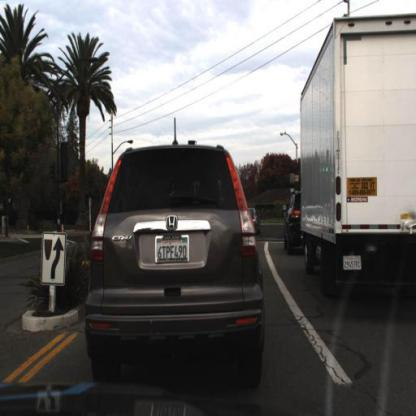car: (72, 135, 270, 386), (280, 175, 311, 260)
truck: (297, 20, 416, 302)
